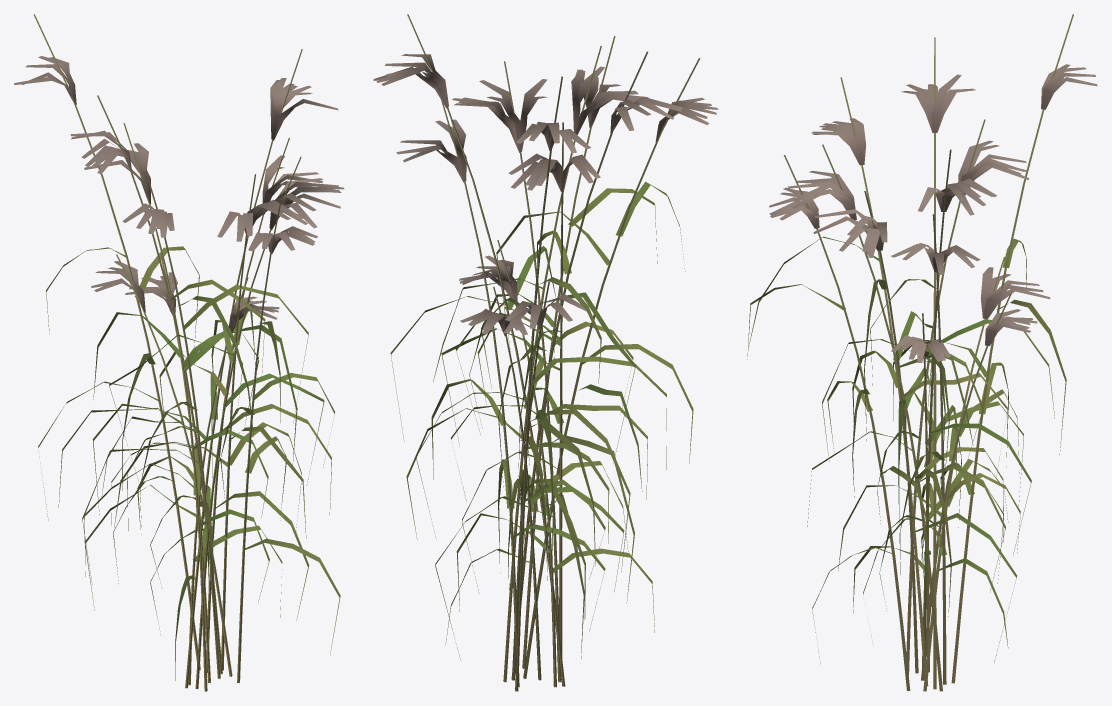
The model's file is reed_0.glb.
3 renders of one model, left to right at view 1: azimuth 30°, elevation 25°; view 2: azimuth 150°, elevation 25°; view 3: azimuth 270°, elevation 25°, orthographic. The views are drawn at different scales.
Visible parts, largest first — view 1: reed_0; view 2: reed_0; view 3: reed_0.
Boxes of the visible parts, bbox=[...] form: reed_0: bbox=[14, 14, 344, 691]; reed_0: bbox=[373, 14, 718, 691]; reed_0: bbox=[747, 14, 1097, 691].
Bounding box in the file's own units: 0.9427 × 2.24 × 1.15.
